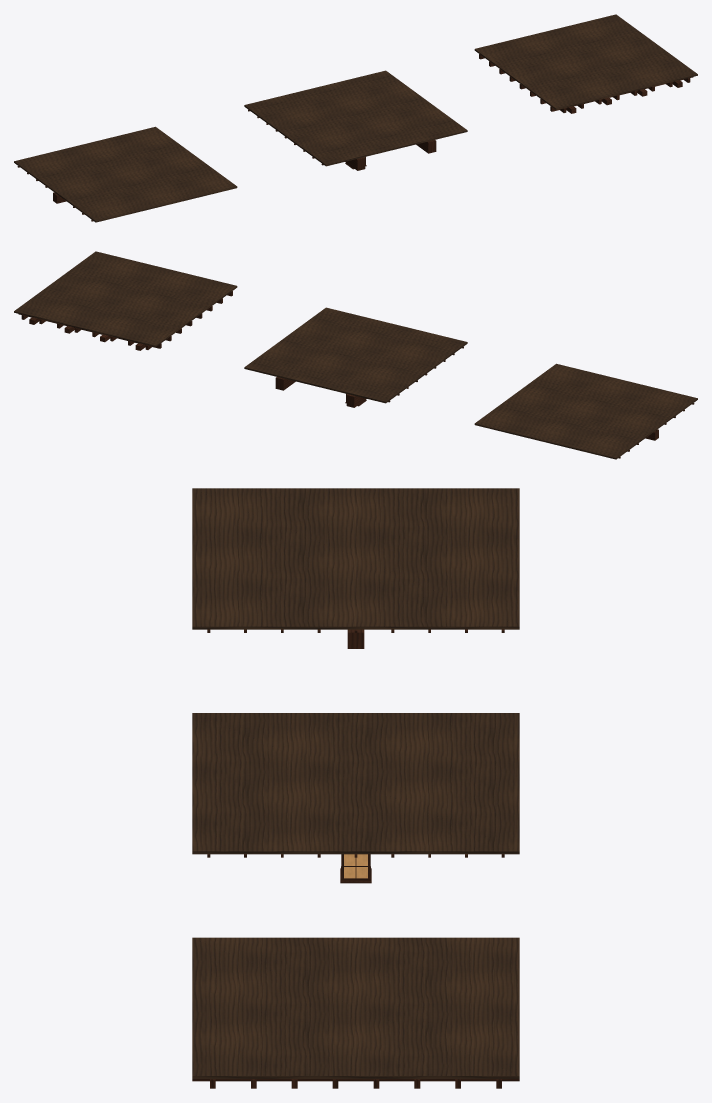
File: ceiling_modules.glb
The picture shows the model from 3 angles, top to bottom: view 1: azimuth 30°, elevation 25°; view 2: azimuth 150°, elevation 25°; view 3: azimuth 270°, elevation 25°; orthographic projection. The views are drawn at different scales.
Parts seen in each view (by area): view 1: IC16_Ceiling_Coffered__Mesh, IC16_Ceiling_Beamed_Lantern__Mesh, IC16_Ceiling_Batten__Mesh; view 2: IC16_Ceiling_Coffered__Mesh, IC16_Ceiling_Beamed_Lantern__Mesh, IC16_Ceiling_Batten__Mesh; view 3: IC16_Ceiling_Coffered__Mesh, IC16_Ceiling_Batten__Mesh, IC16_Ceiling_Beamed_Lantern__Mesh, IC16_Ceiling_Beamed_Lantern__Lantern__Mesh.
Boxes of the visible parts, x1,y1,x2,y2 form: IC16_Ceiling_Coffered__Mesh: (474,14,697,113); IC16_Ceiling_Beamed_Lantern__Mesh: (244,70,467,170); IC16_Ceiling_Batten__Mesh: (14,126,237,222); IC16_Ceiling_Coffered__Mesh: (14,251,237,350); IC16_Ceiling_Beamed_Lantern__Mesh: (244,307,467,407); IC16_Ceiling_Batten__Mesh: (474,363,697,459); IC16_Ceiling_Coffered__Mesh: (192,937,519,1088); IC16_Ceiling_Batten__Mesh: (192,488,519,648); IC16_Ceiling_Beamed_Lantern__Mesh: (192,713,519,857); IC16_Ceiling_Beamed_Lantern__Lantern__Mesh: (340,854,371,883).
Size of the model in its own units: 17 by 1.35 by 4.
Materials: 5 (3 with a texture image).
